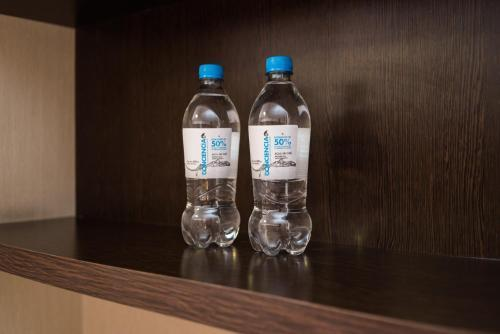bottle: (247, 49, 314, 264), (176, 58, 245, 252)
